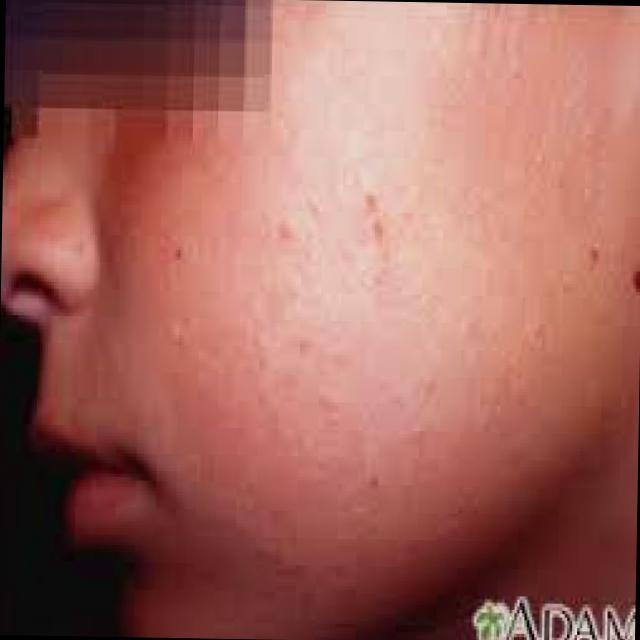Eczema: (128, 108, 542, 528)
